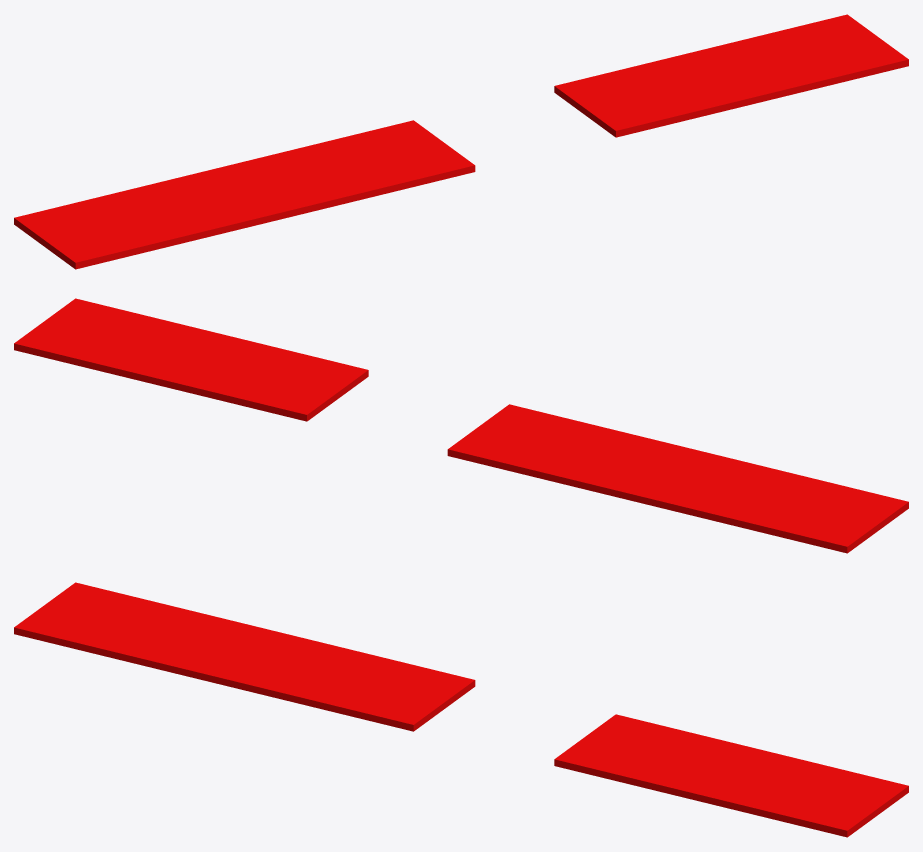
The model's file is CreditsMenuPage.fbx.
3 views of the same model, one above another, from view 1: azimuth 30°, elevation 25°; view 2: azimuth 150°, elevation 25°; view 3: azimuth 330°, elevation 25° (orthographic).
Parts seen in each view (by area): view 1: highlight_source (×2); view 2: highlight_source (×2); view 3: highlight_source (×2).
Boxes of the visible parts, x1,y1,x2,y2 form: highlight_source (×2): (14, 14, 908, 269); highlight_source (×2): (14, 298, 908, 553); highlight_source (×2): (14, 582, 908, 837).
Size of the model in its own units: 0.1564 by 0.0012 by 0.02.
